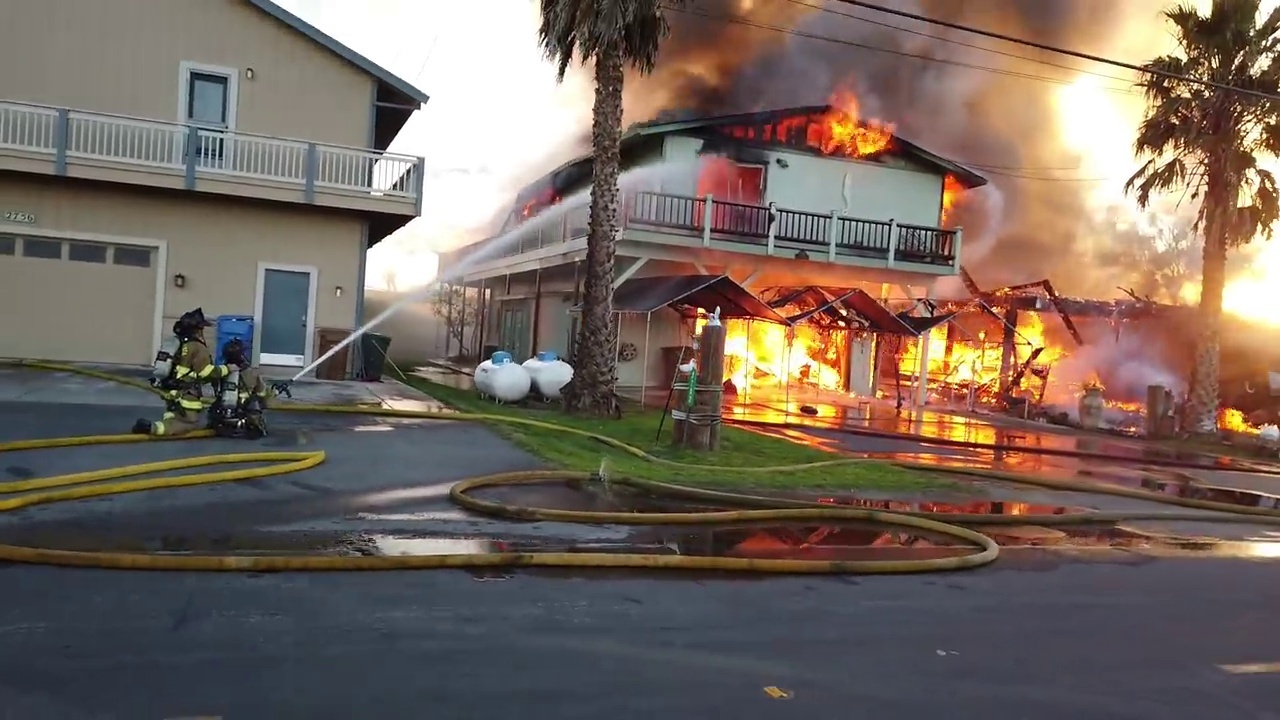fire: (725, 278, 1146, 426), (1223, 131, 1279, 336), (776, 82, 897, 156), (698, 154, 762, 233), (1209, 406, 1279, 439), (935, 163, 962, 227), (517, 185, 558, 208), (1177, 277, 1200, 301), (762, 685, 793, 698)
smoke: (905, 1, 1136, 270), (670, 1, 830, 104), (1068, 333, 1188, 401), (831, 2, 903, 81)
